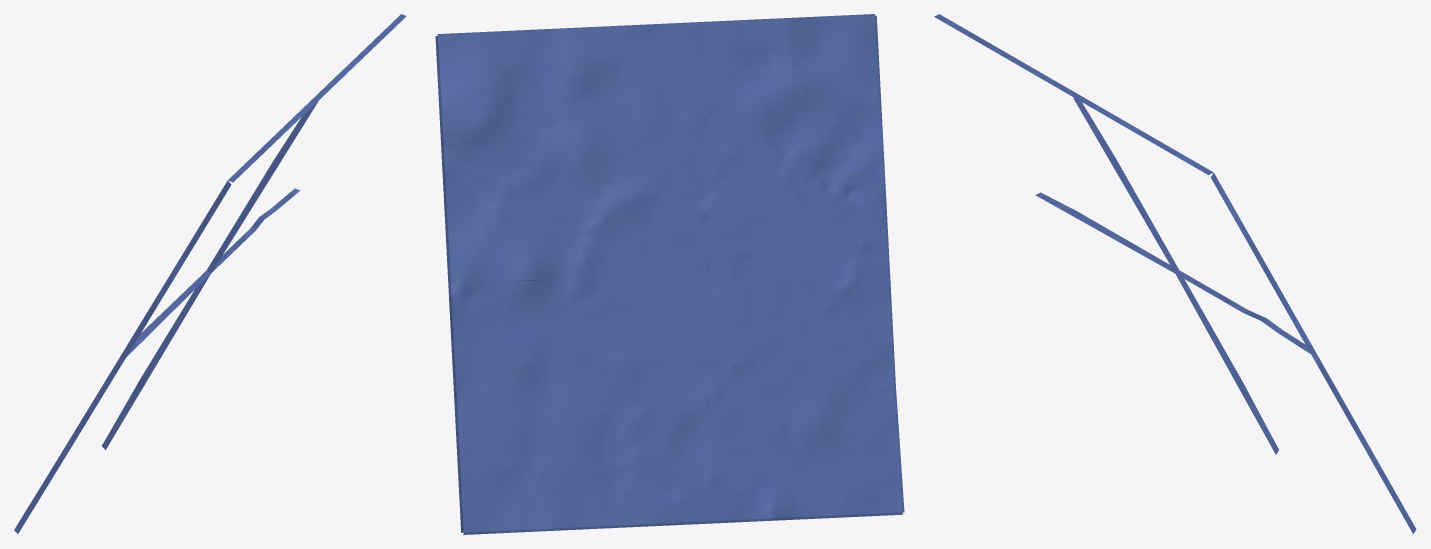
3 renders of one model, left to right at view 1: azimuth 30°, elevation 25°; view 2: azimuth 150°, elevation 25°; view 3: azimuth 270°, elevation 25°, orthographic. The views are drawn at different scales.
Size of the model in its own units: 78796 by 69532 by 71785.
Materials: 1 (1 with a texture image).
